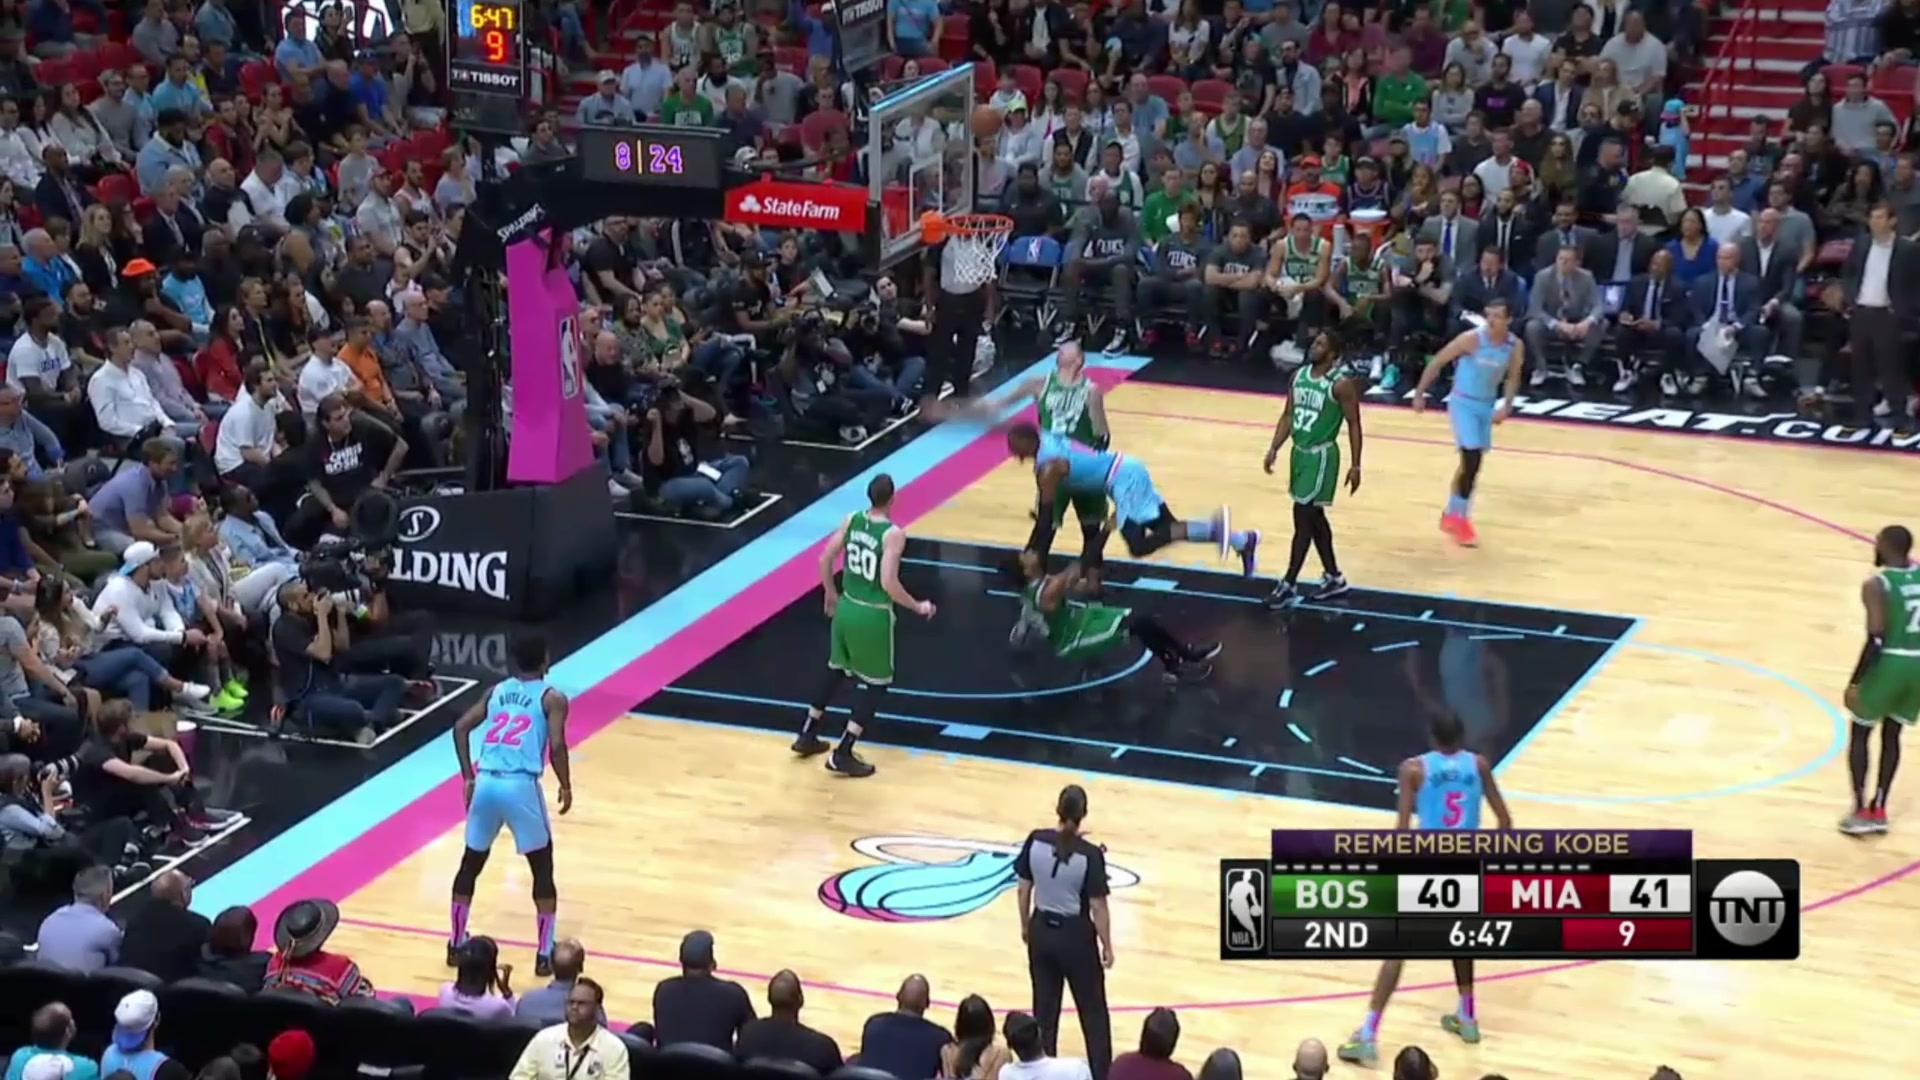no_foul: (989, 413, 1253, 729)
